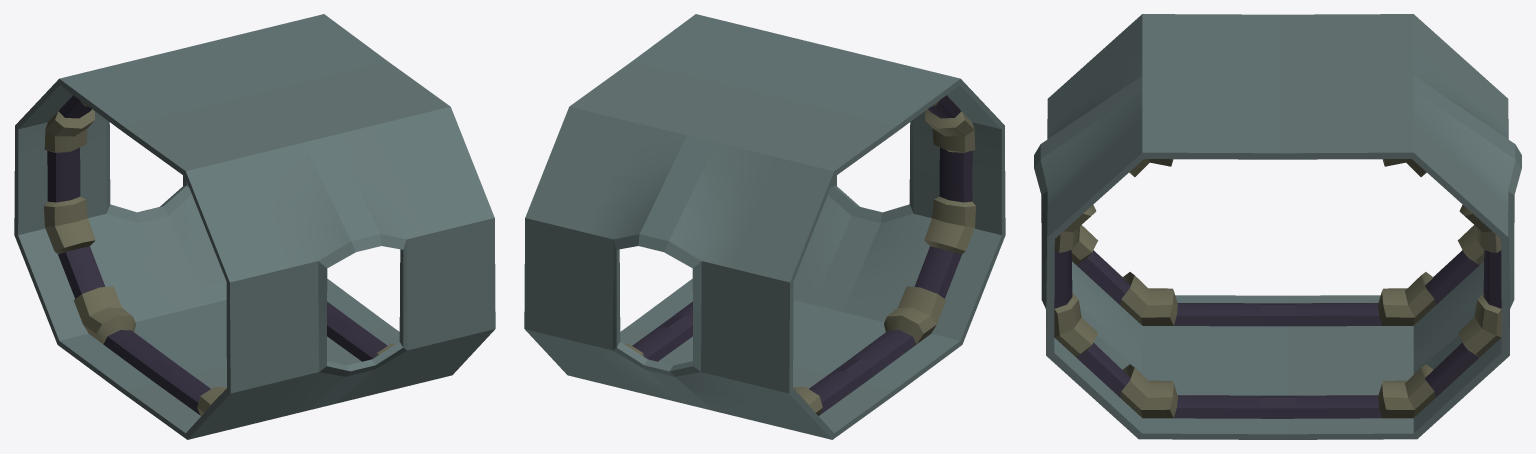
The model's file is NewHallway.fbx.
3 views of the same model, side by side, from view 1: azimuth 30°, elevation 25°; view 2: azimuth 150°, elevation 25°; view 3: azimuth 270°, elevation 25° (orthographic). The views are drawn at different scales.
Visible parts, largest first — view 1: polySurface3; view 2: polySurface3; view 3: polySurface3.
Boxes of the visible parts, x1=… form: polySurface3: x1=14, y1=14, x2=495, y2=439; polySurface3: x1=524, y1=14, x2=1005, y2=439; polySurface3: x1=1034, y1=14, x2=1521, y2=439.
Bounding box in the file's own units: 29.24 × 28.27 × 43.5.
